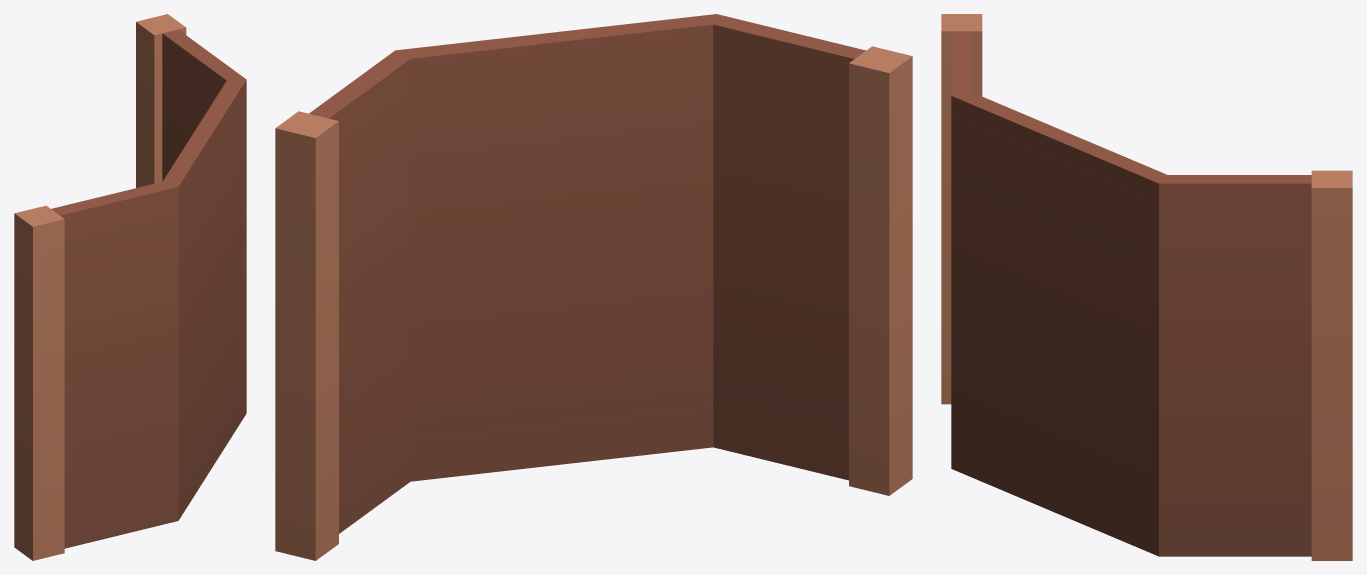
File: wall-wood-corner-diagonal.glb
The picture shows the model from 3 angles, left to right: view 1: azimuth 30°, elevation 25°; view 2: azimuth 150°, elevation 25°; view 3: azimuth 270°, elevation 25°; orthographic projection. The views are drawn at different scales.
Parts seen in each view (by area): view 1: wall-wood-corner-diagonal; view 2: wall-wood-corner-diagonal; view 3: wall-wood-corner-diagonal.
Part boxes in pixels (x1,y1,x2,y2): wall-wood-corner-diagonal: (14, 14, 246, 560); wall-wood-corner-diagonal: (275, 14, 912, 560); wall-wood-corner-diagonal: (941, 14, 1352, 560).
Bounding box in the file's own units: 1 × 1 × 1.
1 material, 1 textured.
